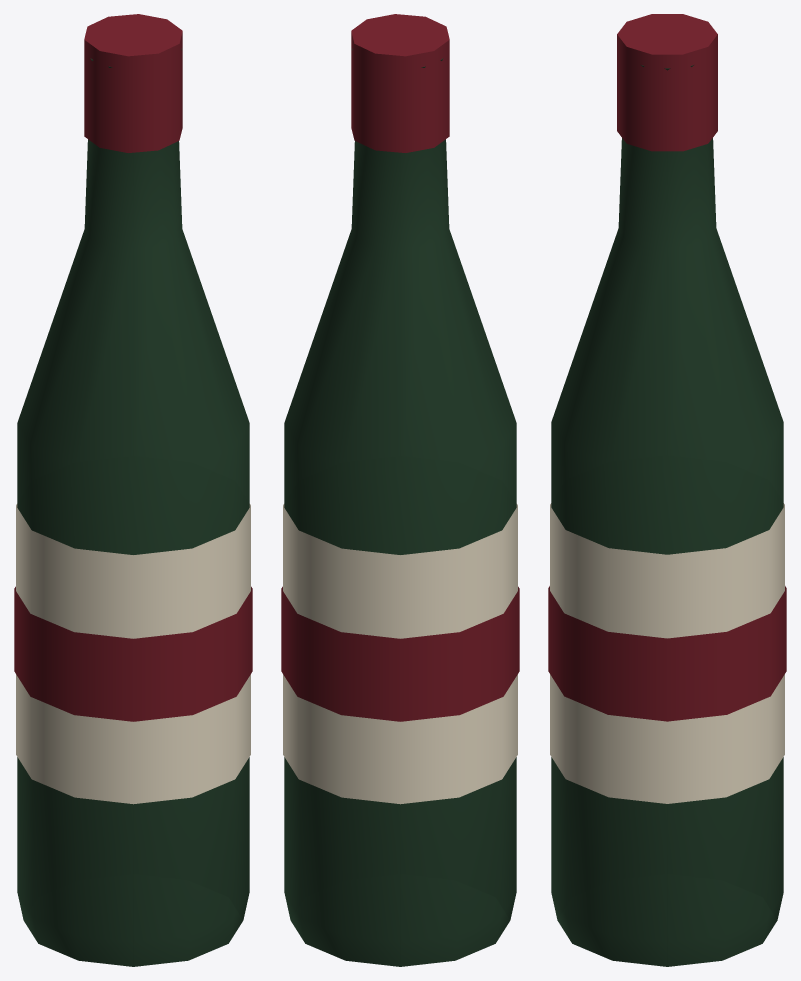
Rendered from wine_bottle.glb.
3 renders of one model, left to right at view 1: azimuth 30°, elevation 25°; view 2: azimuth 150°, elevation 25°; view 3: azimuth 270°, elevation 25°, orthographic.
Visible parts, largest first — view 1: wine_bottle; view 2: wine_bottle; view 3: wine_bottle.
Part boxes in pixels (x1,y1,x2,y2): wine_bottle: [14, 14, 252, 966]; wine_bottle: [281, 14, 519, 966]; wine_bottle: [548, 14, 786, 966].
Bounding box in the file's own units: 0.078 × 0.32 × 0.078.
